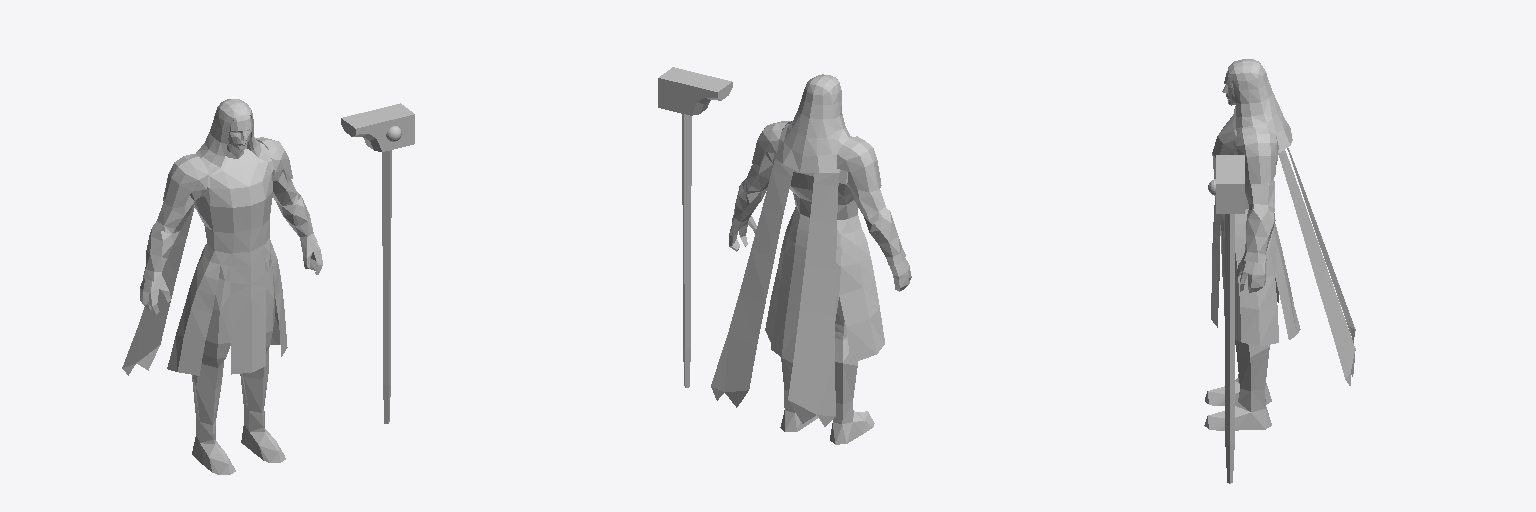
The model's file is M-FF_iOS_VILLAIN_Ronan_Guardians_Of_The_Galaxy.obj.
3 renders of one model, left to right at view 1: azimuth 30°, elevation 25°; view 2: azimuth 150°, elevation 25°; view 3: azimuth 270°, elevation 25°, orthographic.
Size of the model in its own units: 1.71 by 2.27 by 0.8827.